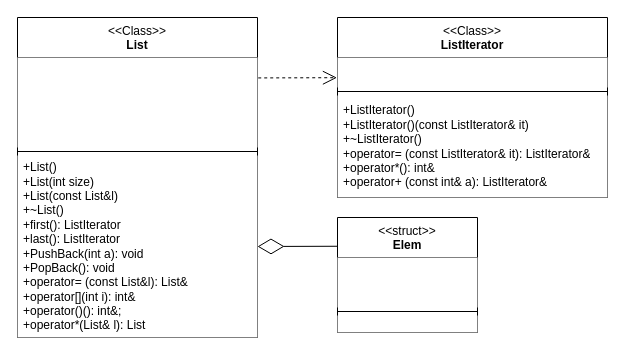
Image size: 625x355. Some labels were removed from this diagram. The shapes that lost their labels are listed below. From the top down, each one's centre as x and y in pixels, then its label:
At [472,72]: "-elem: Elem*".
At [137,102]: "-size: int -head: Elem* -tail: Elem* -beg: ListIterator -end: ListIterator".
At [407,282]: "+data: int +next: *Elem +prev: *Elem".
